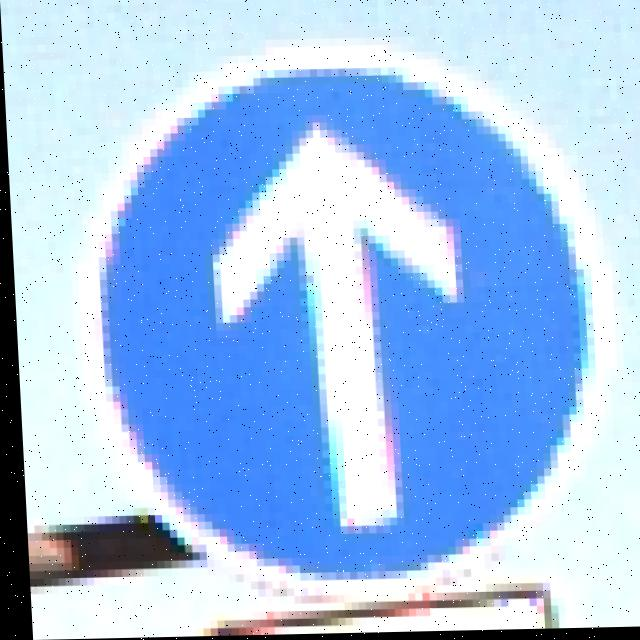compulsory_ahead: (116, 37, 606, 583)
